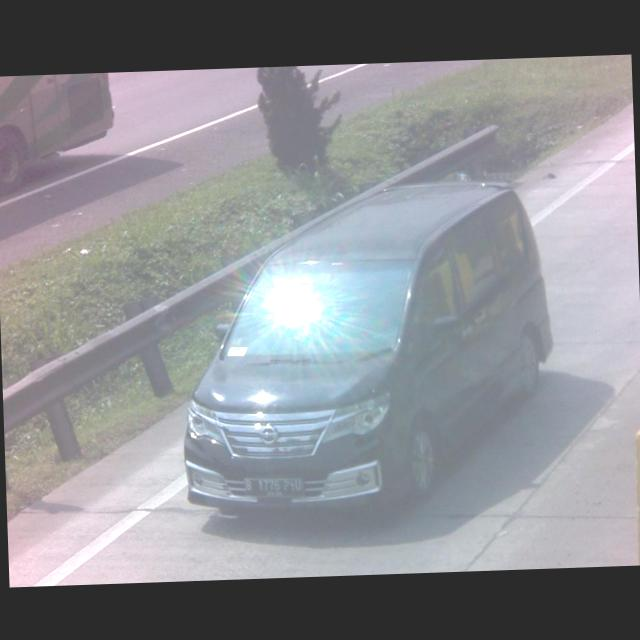plate: (240, 473, 304, 499)
